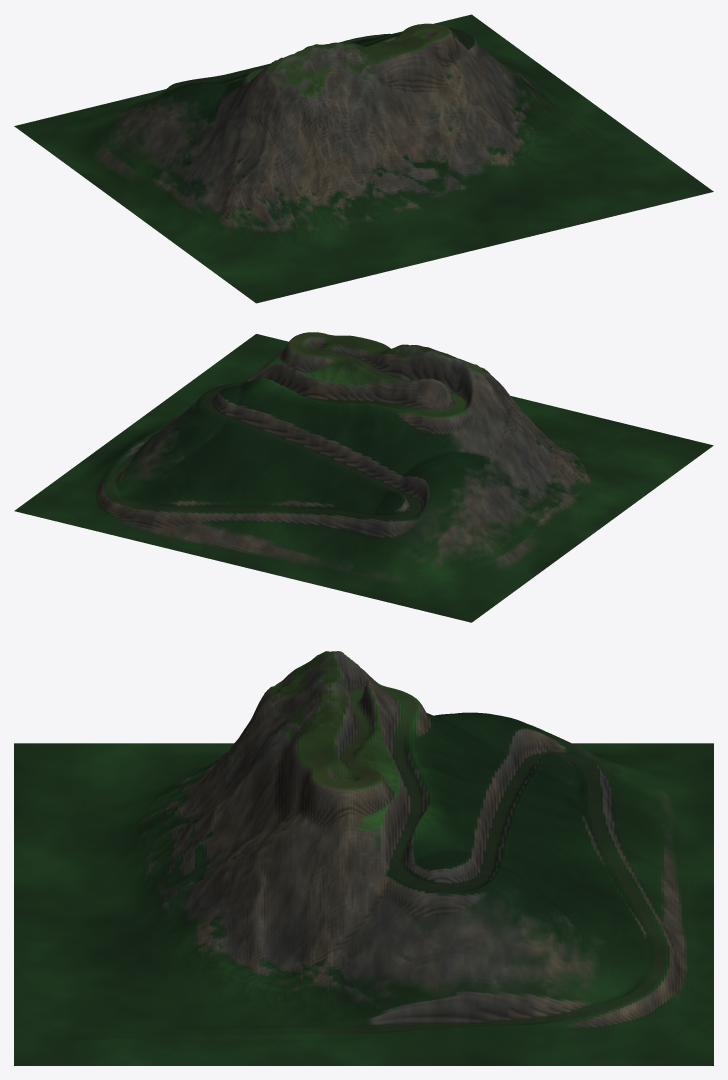
The model's file is Mountain_Terrain.glb.
3 renders of one model, top to bottom at view 1: azimuth 30°, elevation 25°; view 2: azimuth 150°, elevation 25°; view 3: azimuth 270°, elevation 25°, orthographic. The views are drawn at different scales.
Visible parts, largest first — view 1: SM_Mountain_Terrain; view 2: SM_Mountain_Terrain; view 3: SM_Mountain_Terrain.
Boxes of the visible parts, x1,y1,x2,y2 form: SM_Mountain_Terrain: (14, 14, 713, 303); SM_Mountain_Terrain: (14, 332, 713, 622); SM_Mountain_Terrain: (14, 651, 713, 1065).
Size of the model in its own units: 1418 by 400 by 1300.
Materials: 1 (1 with a texture image).
